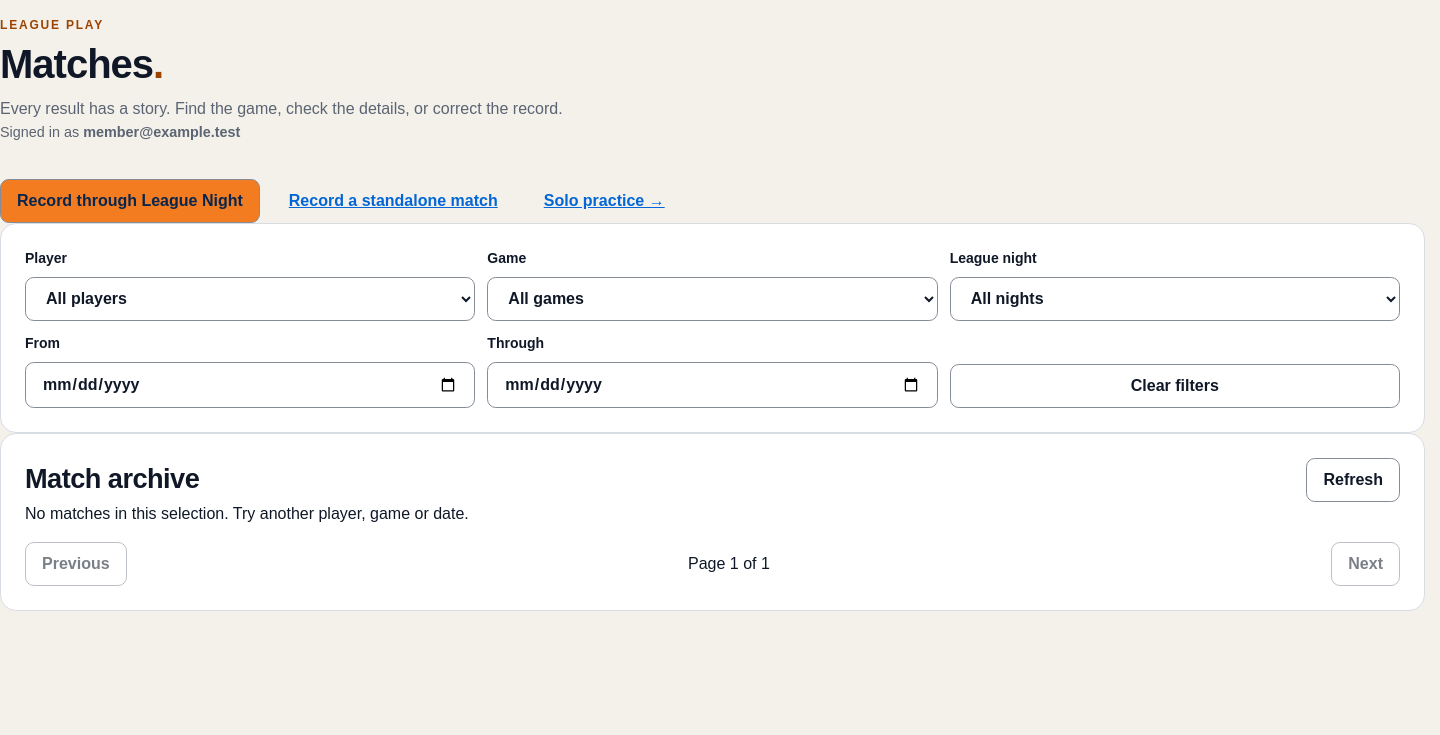
Scenario: opens the archive first and makes standalone recording an explicit choice
The width and height of the screenshot is (1440, 735).
Expected: the heading "Match archive" is shown, [25,464,199,496]
Expected: the button "Save match" is not shown
Click the button "Record a standalone match".
click(393, 201)  # box [272,179,515,223]
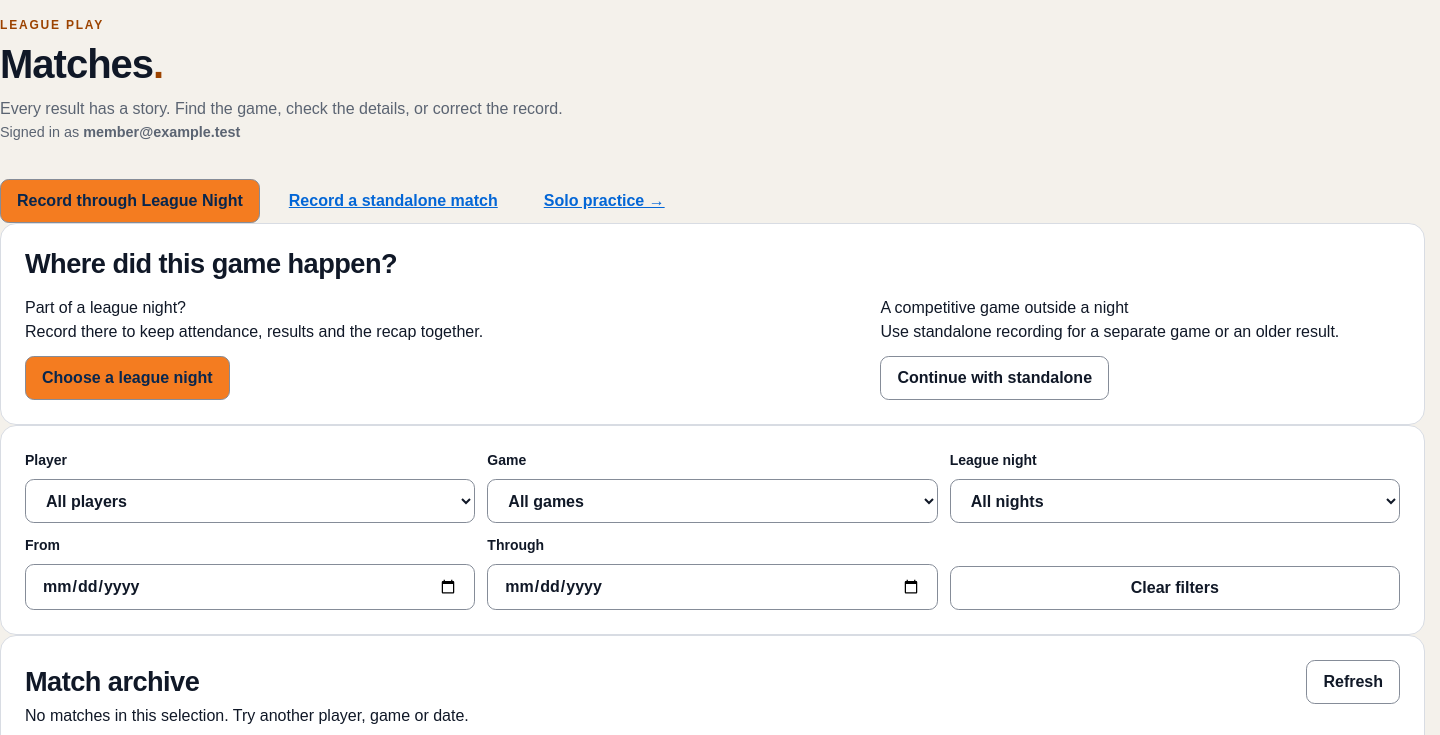
Expected: the button "Save match" is not shown
Click the button "Continue with standalone".
click(995, 378)  # box [880,356,1109,400]
(page scrolled)
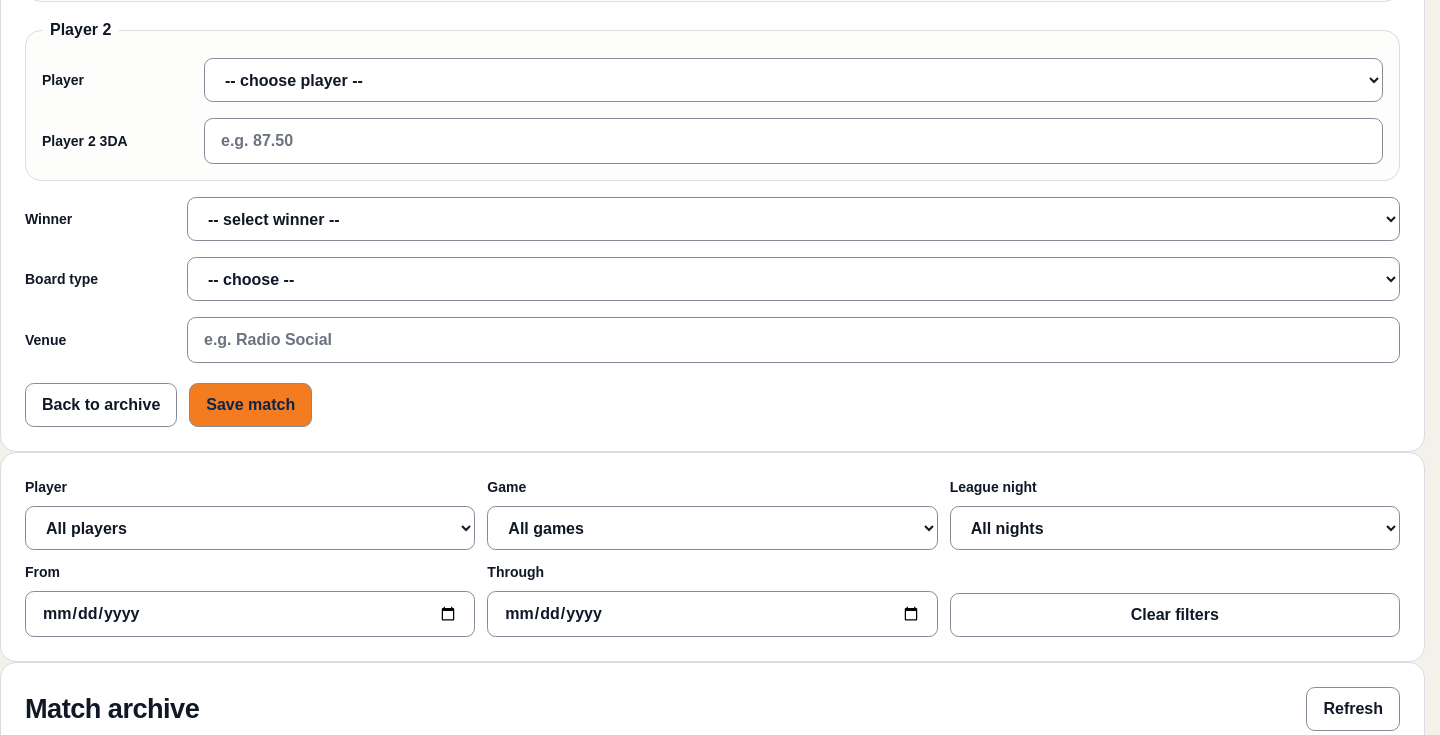
Result: the button "Save match" is shown at [189,383,312,427]
